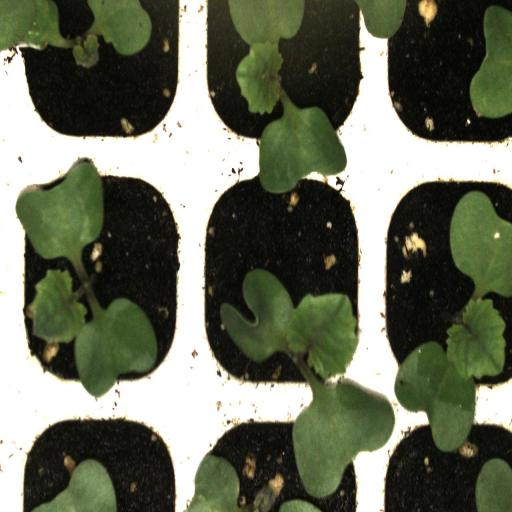seedling: (7, 156, 195, 403), (190, 162, 372, 403), (373, 162, 512, 399), (192, 0, 373, 158), (7, 0, 190, 156)
